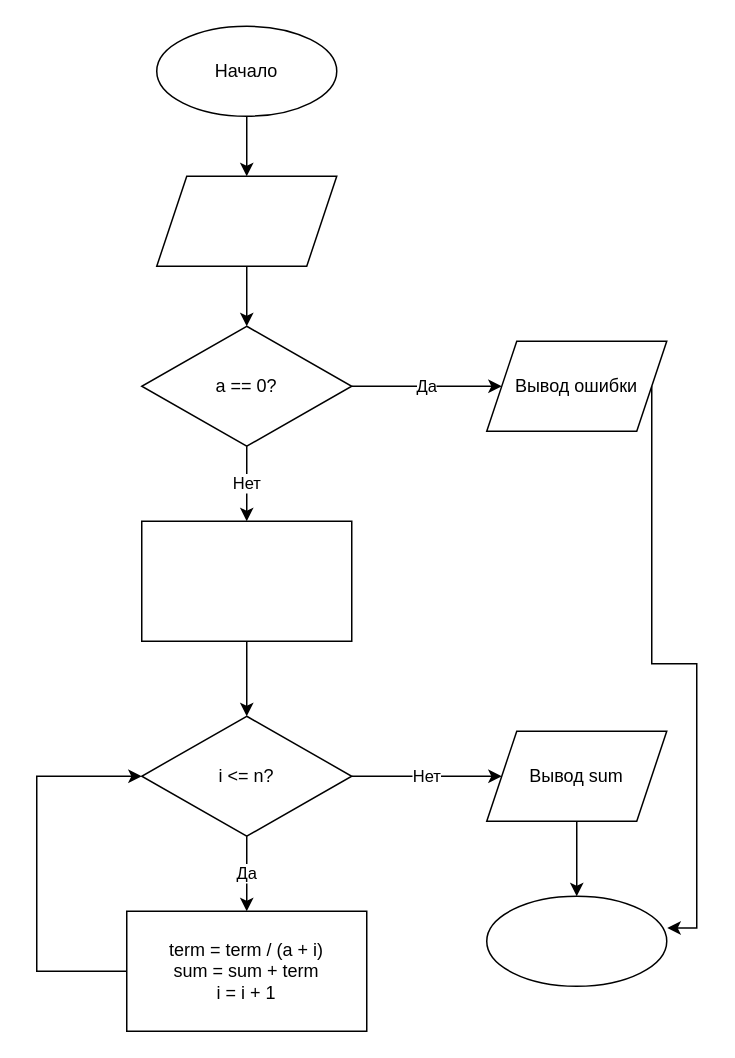
Image size: 735x1058. Some labels were removed from this diagram. The shapes that lost their labels are listed below. From the top down, each one's centre as x and y in pixels, then its label:
(x=246, y=220): Ввод a, n
(x=246, y=580): sum = 0.0 term = 1.0 i = 0
(x=576, y=940): Конец
